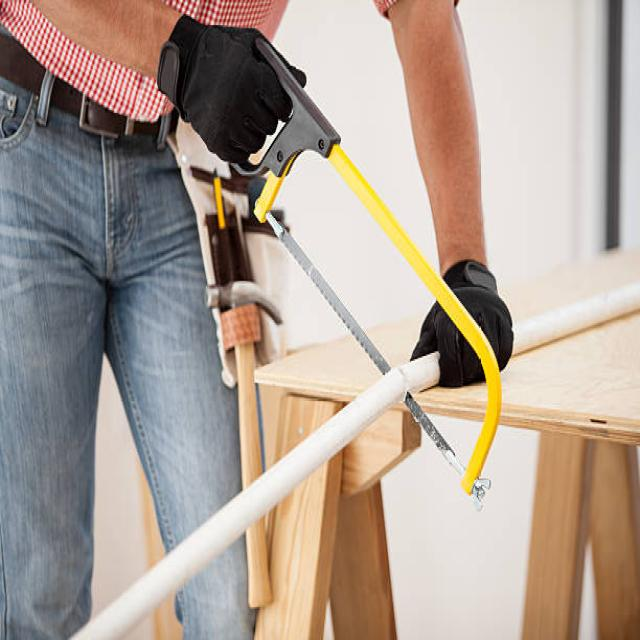gloves: (157, 11, 308, 162), (409, 254, 515, 386)
